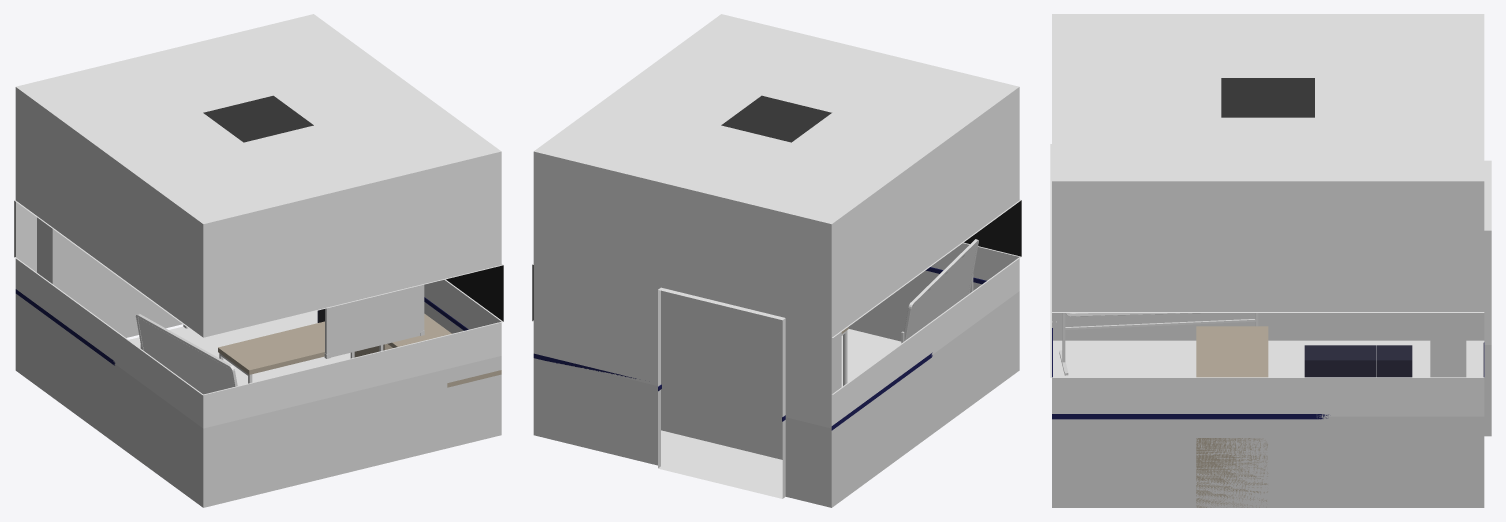
File: F2_OfficeRoom.fbx
The picture shows the model from 3 angles, left to right: view 1: azimuth 30°, elevation 25°; view 2: azimuth 150°, elevation 25°; view 3: azimuth 270°, elevation 25°; orthographic projection. The views are drawn at different scales.
Visible parts, largest first — view 1: F2_OR_Office, F2_OR_Trigger1-1, F2_OR_NoteBoard1, Table3-1_part1, Board2, F2_OR_RectLight1, Table3-1_part2, F2_OR_NoteBoardFrame1, F2_OR_Stripe1, Board2_Cover; view 2: F2_OR_Office, F2_OR_Trigger1-1, F2_OR_RectLight1, Board2, F2_OR_Stripe1, Board2_Cover; view 3: F2_OR_Office, Table3-1_part1, F2_OR_RectLight1, Table3-1_Support, F2_OR_Trigger1-1, F2_OR_Stripe1, Locker1-2, Locker1-1, Locker1-3, Board2_rod.
Part boxes in pixels (x1,y1,x2,y2): F2_OR_Office: (14, 14, 503, 507); F2_OR_Trigger1-1: (37, 217, 182, 337); F2_OR_NoteBoard1: (329, 285, 421, 354); Table3-1_part1: (218, 321, 324, 374); Board2: (138, 318, 233, 394); F2_OR_RectLight1: (203, 95, 313, 142); Table3-1_part2: (387, 313, 501, 387); F2_OR_NoteBoardFrame1: (324, 284, 424, 358); F2_OR_Stripe1: (15, 289, 468, 365); Board2_Cover: (135, 313, 237, 386); F2_OR_Office: (532, 14, 1021, 507); F2_OR_Trigger1-1: (661, 290, 841, 459); F2_OR_RectLight1: (721, 95, 831, 142); Board2: (906, 243, 976, 339); F2_OR_Stripe1: (533, 267, 986, 430); Board2_Cover: (904, 239, 978, 340); F2_OR_Office: (1050, 14, 1491, 507); Table3-1_part1: (1196, 326, 1268, 377); F2_OR_RectLight1: (1221, 78, 1314, 117); Table3-1_Support: (1196, 438, 1268, 507); F2_OR_Trigger1-1: (1430, 313, 1466, 377); F2_OR_Stripe1: (1052, 328, 1484, 419); Locker1-2: (1340, 345, 1376, 377); Locker1-1: (1376, 345, 1412, 377); Locker1-3: (1304, 345, 1340, 377); Board2_rod: (1065, 319, 1255, 329).
Bounding box in the file's own units: 1110 × 1000 × 1225.
